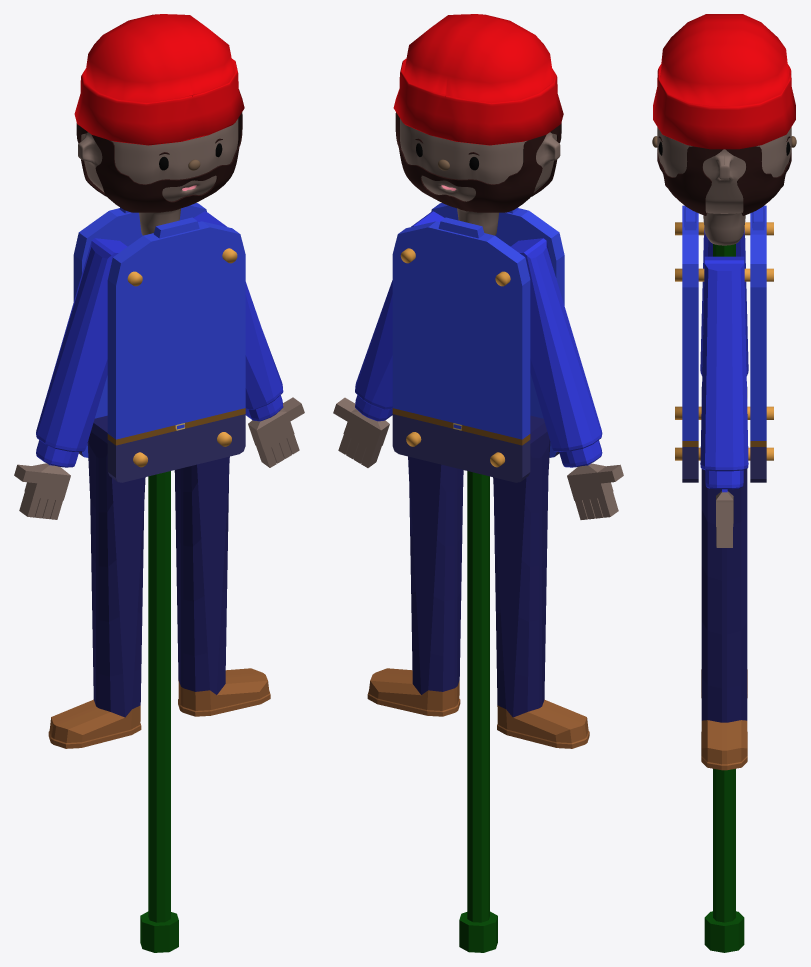
File: ToyMaker_anim1.glb
The picture shows the model from 3 angles, left to right: view 1: azimuth 30°, elevation 25°; view 2: azimuth 150°, elevation 25°; view 3: azimuth 270°, elevation 25°; orthographic projection.
Visible parts, largest first — view 1: body_main, right_leg, left_leg, right_arm, left_arm; view 2: body_main, right_leg, left_leg, right_arm, left_arm; view 3: body_main, left_leg, left_arm, right_arm.
Boxes of the visible parts, left/top/right/bottom form: body_main: left=73, top=14, right=245, bottom=952; right_leg: left=48, top=415, right=145, bottom=748; left_leg: left=174, top=456, right=270, bottom=716; right_arm: left=14, top=238, right=127, bottom=519; left_arm: left=193, top=211, right=304, bottom=467; body_main: left=392, top=14, right=564, bottom=952; right_leg: left=493, top=415, right=589, bottom=748; left_leg: left=367, top=456, right=463, bottom=716; right_arm: left=510, top=238, right=623, bottom=519; left_arm: left=333, top=211, right=444, bottom=467; body_main: left=652, top=14, right=796, bottom=952; left_leg: left=701, top=469, right=747, bottom=770; left_arm: left=700, top=256, right=748, bottom=547; right_arm: left=700, top=228, right=748, bottom=375.
Size of the model in its own units: 4.36 by 13.59 by 1.93.
